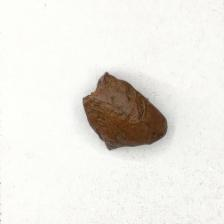NG: (79, 71, 122, 153)
